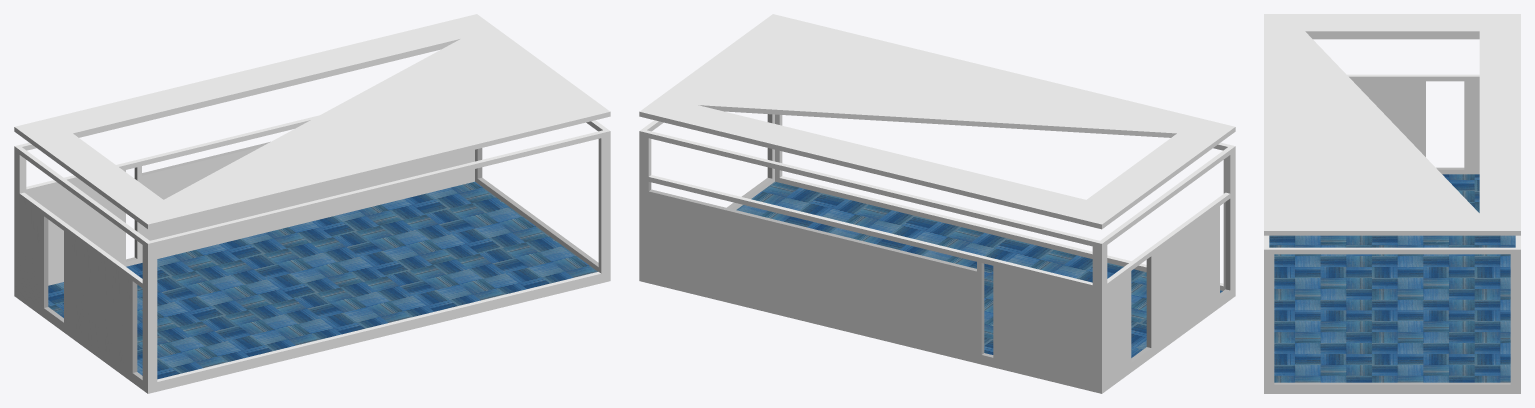
3 views of the same model, side by side, from view 1: azimuth 30°, elevation 25°; view 2: azimuth 150°, elevation 25°; view 3: azimuth 270°, elevation 25° (orthographic). The views are drawn at different scales.
Parts seen in each view (by area): view 1: SketchUp (×10), group_0; view 2: SketchUp (×10), group_0; view 3: SketchUp (×6), group_0.
Boxes of the visible parts, x1,y1,x2,y2 form: SketchUp (×10): (14,14,610,393); group_0: (22,48,602,285); SketchUp (×10): (639,14,1235,393); group_0: (647,114,1227,290); SketchUp (×6): (1264,14,1520,393); group_0: (1310,36,1479,174).
Size of the model in its own units: 1575 by 787 by 551.
Materials: 4 (1 with a texture image).
